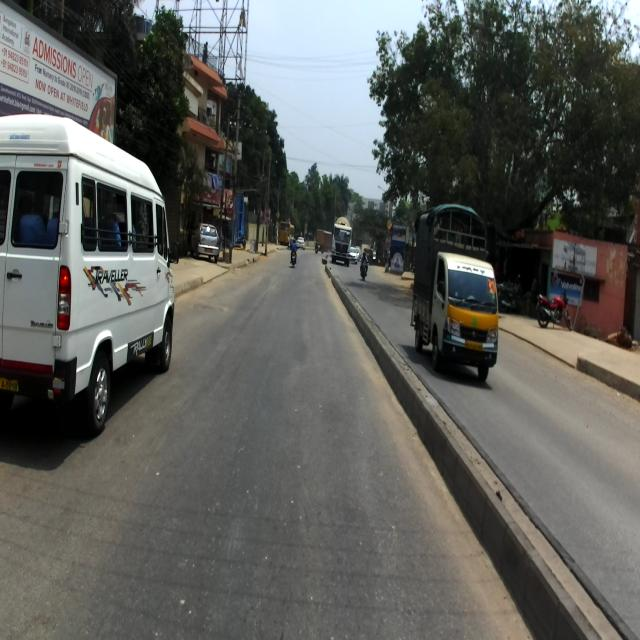bus ahead at: (0, 109, 178, 447)
car ahead at: (189, 214, 225, 258)
truck ahead at: (410, 196, 504, 388)
